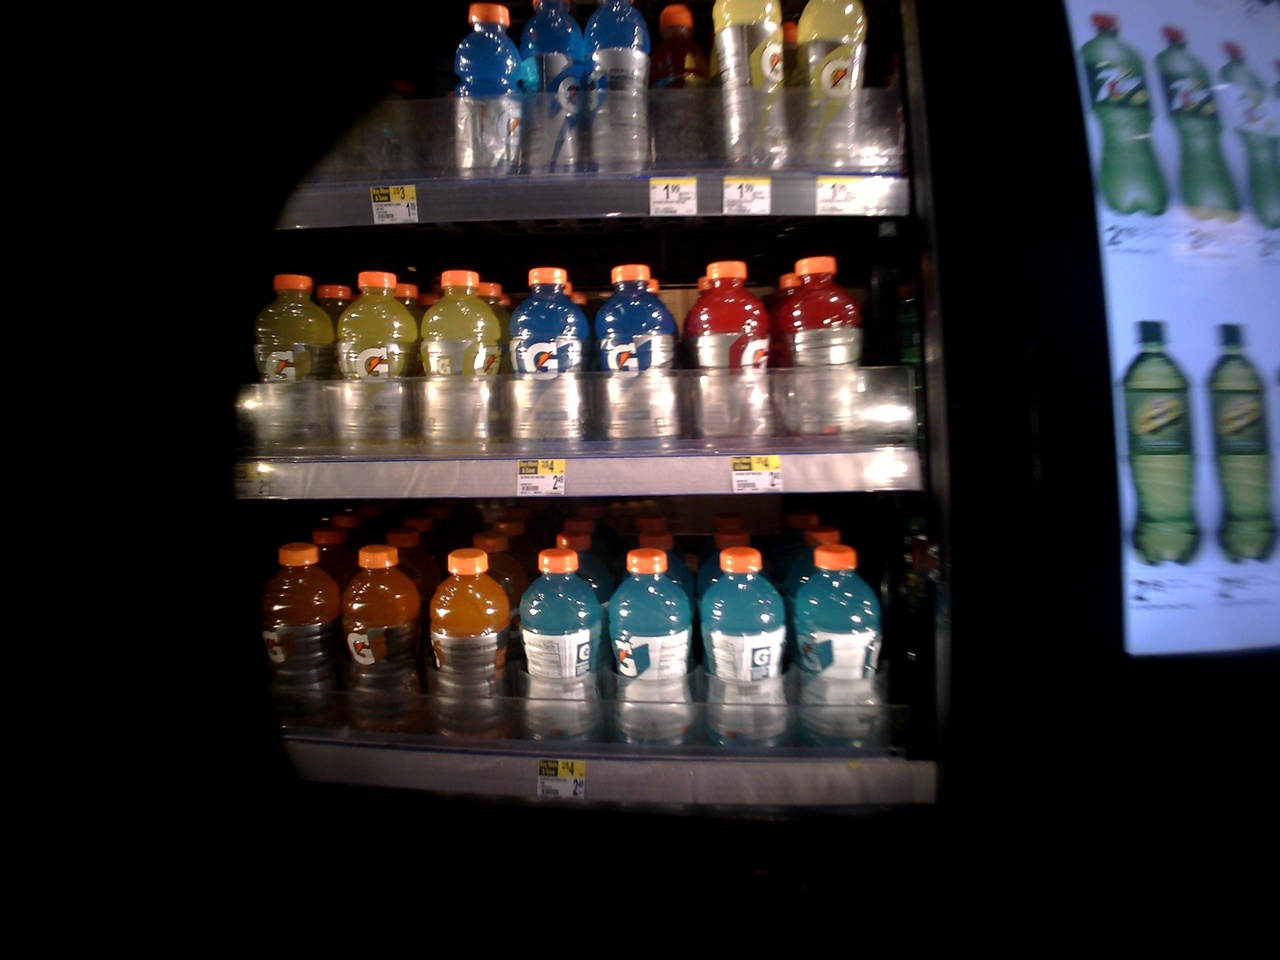shelf: (240, 498, 932, 805), (210, 240, 893, 501), (218, 0, 900, 201)
